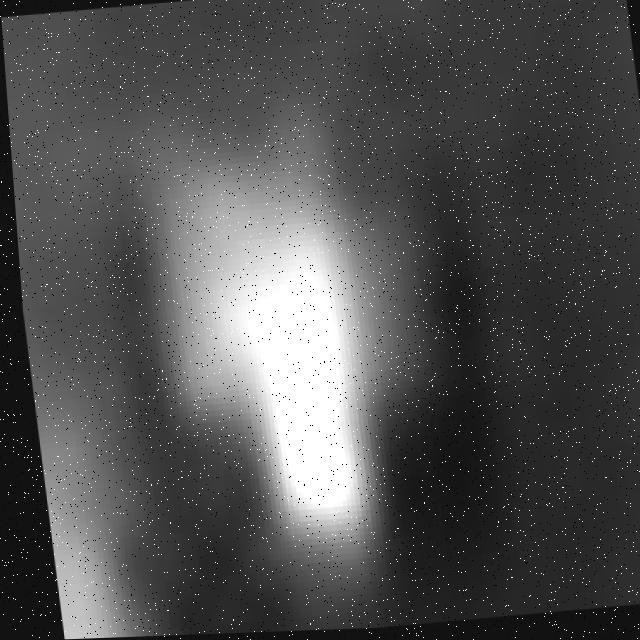person: (124, 51, 442, 598), (18, 295, 131, 640)
